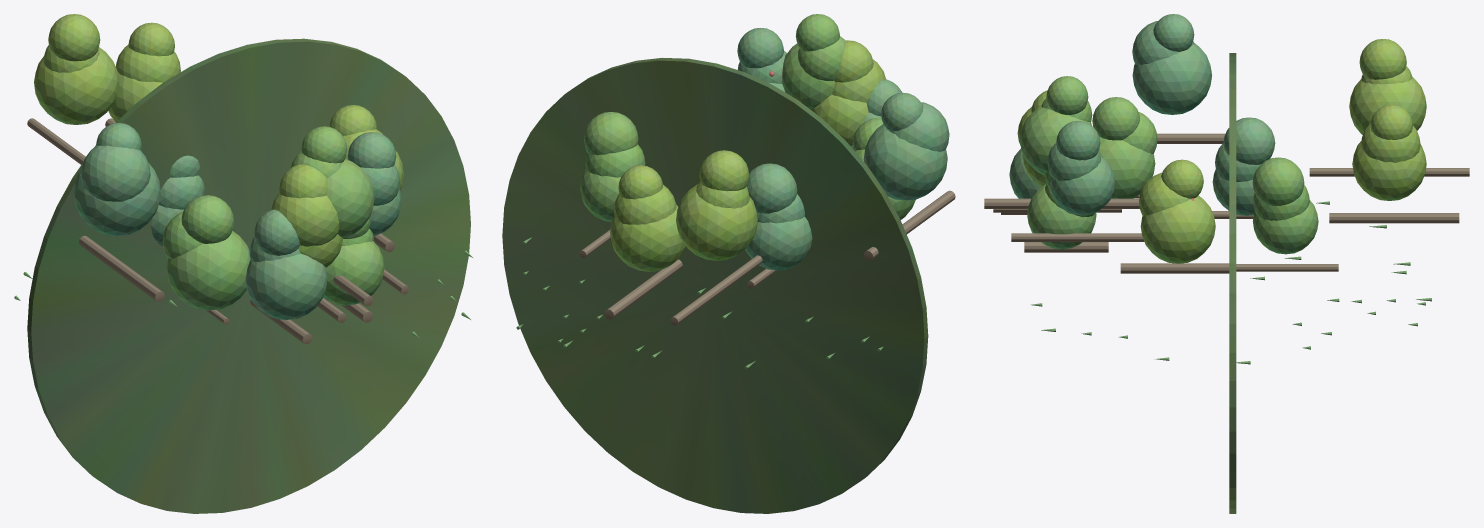
The model's file is jungle-forest.glb.
3 renders of one model, left to right at view 1: azimuth 30°, elevation 25°; view 2: azimuth 150°, elevation 25°; view 3: azimuth 270°, elevation 25°, orthographic. The views are drawn at different scales.
Parts seen in each view (by area): view 1: ground, canopy_3_0, canopy_11_0, canopy_10_0, canopy_4_1, canopy_4_0, canopy_0_0, canopy_12_0, canopy_8_1, canopy_3_2, canopy_11_2, canopy_2_1 (+19 smaller); view 2: ground, canopy_11_0, canopy_4_0, canopy_2_0, canopy_1_0, canopy_1_2, canopy_6_2, canopy_12_0, canopy_11_2, canopy_2_1, canopy_4_1, canopy_8_0 (+17 smaller); view 3: canopy_4_0, canopy_5_0, ground, canopy_2_0, canopy_11_0, canopy_7_0, canopy_3_0, canopy_0_0, canopy_6_0, canopy_12_0, canopy_6_2, canopy_1_2 (+24 smaller).
Boxes of the visible parts, x1,y1,x2,y2 form: ground: (27, 38, 470, 513); canopy_3_0: (166, 231, 250, 310); canopy_11_0: (34, 47, 119, 124); canopy_10_0: (245, 254, 327, 319); canopy_4_1: (81, 145, 150, 201); canopy_4_0: (73, 163, 160, 235); canopy_0_0: (323, 241, 384, 305); canopy_12_0: (326, 159, 374, 238); canopy_8_1: (271, 193, 339, 246); canopy_3_2: (181, 195, 233, 243); canopy_11_2: (48, 14, 100, 61); canopy_2_1: (115, 44, 180, 82); ground: (502, 57, 928, 513); canopy_11_0: (676, 184, 757, 260); canopy_4_0: (863, 124, 947, 200); canopy_2_0: (610, 204, 685, 271); canopy_1_0: (745, 216, 812, 270); canopy_1_2: (746, 163, 797, 213); canopy_6_2: (583, 112, 638, 155); canopy_12_0: (782, 43, 835, 110); canopy_11_2: (699, 150, 749, 191); canopy_2_1: (614, 184, 676, 224); canopy_4_1: (888, 102, 949, 151); canopy_8_0: (812, 94, 868, 146); canopy_4_0: (1132, 43, 1211, 114); canopy_5_0: (1140, 195, 1215, 263); ground: (1229, 53, 1236, 513); canopy_2_0: (1352, 141, 1426, 200); canopy_11_0: (1349, 77, 1426, 134); canopy_7_0: (1050, 156, 1115, 215); canopy_3_0: (1098, 137, 1155, 198); canopy_0_0: (1027, 184, 1096, 249); canopy_6_0: (1252, 200, 1318, 254); canopy_12_0: (1020, 106, 1091, 174); canopy_6_2: (1252, 157, 1304, 205); canopy_1_2: (1223, 117, 1275, 164).
Bounding box in the file's own units: 13 × 13 × 13.67.
